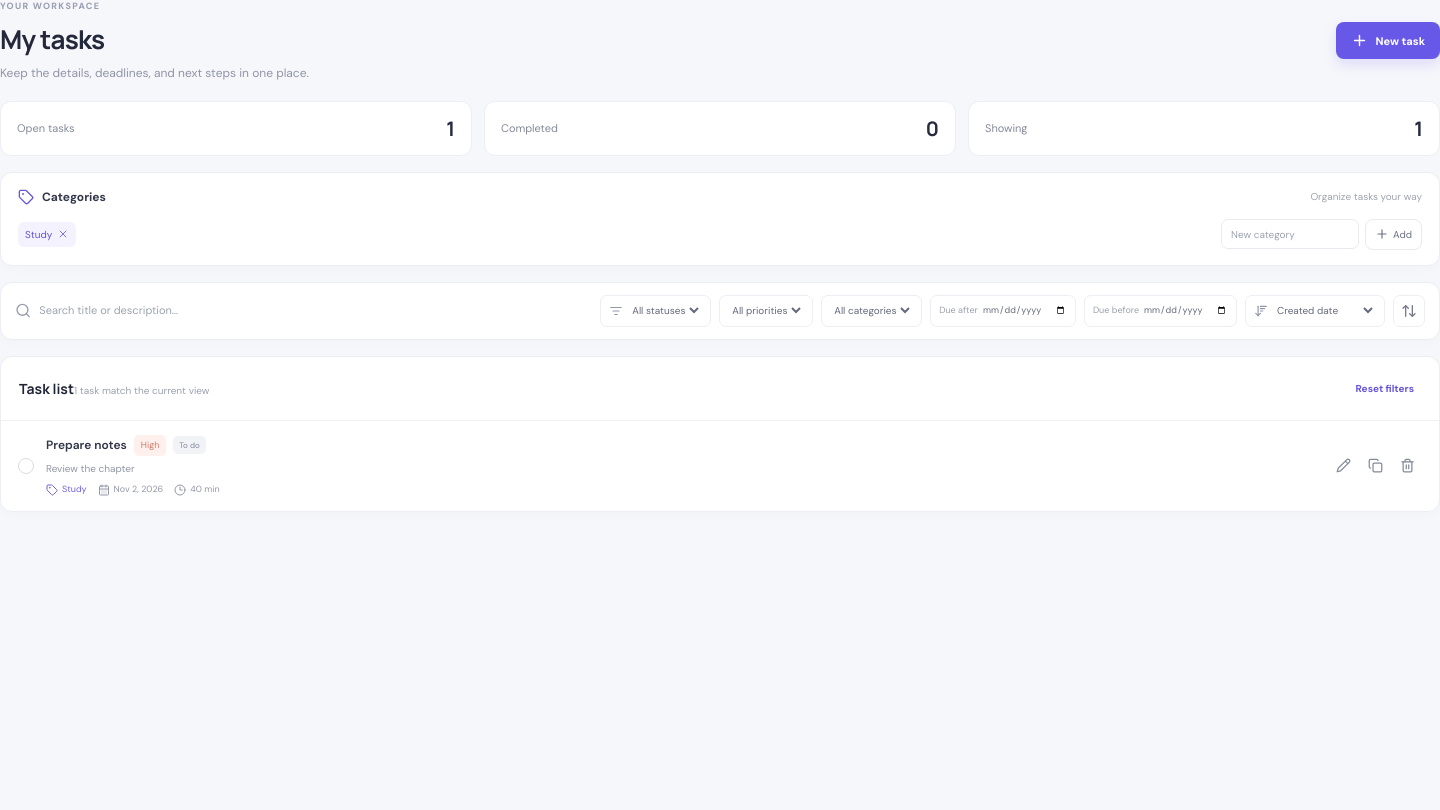
Test case: TaskManager › edits, completes, reopens, and deletes a task from the list
The image size is (1440, 810).
Expected: the heading "Prepare notes" is shown, [46,437,127,453]
Click the button named "Edit Prepare notes" at (1344,466), box [1329,451,1358,480]
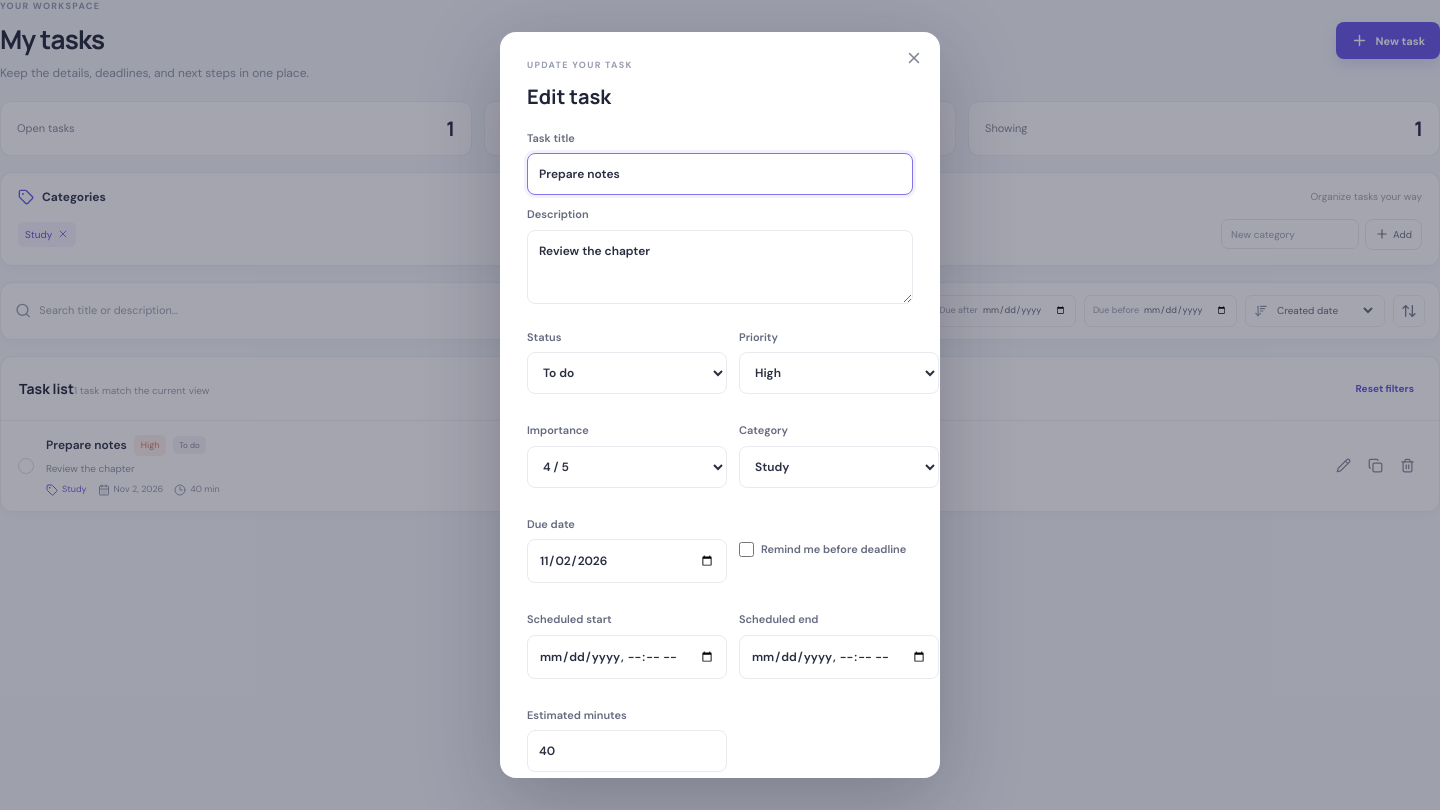
Replace the text in the field labelled "Task title" with "Updated notes" at (720,174), box [527,153,913,195]
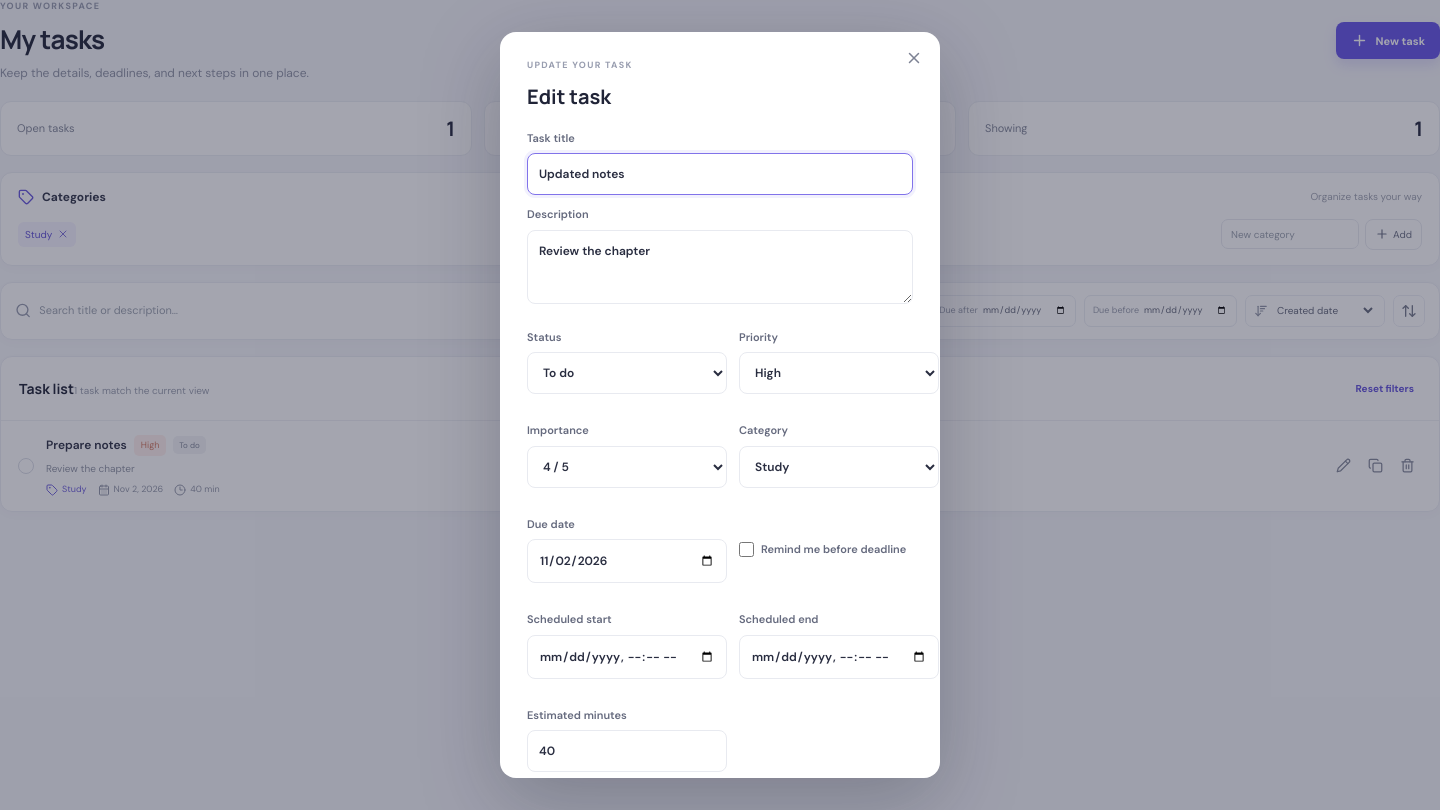
Select "Done" in the dropdown labelled "Status" at (627,373), box [527,352,727,394]
(page scrolled)
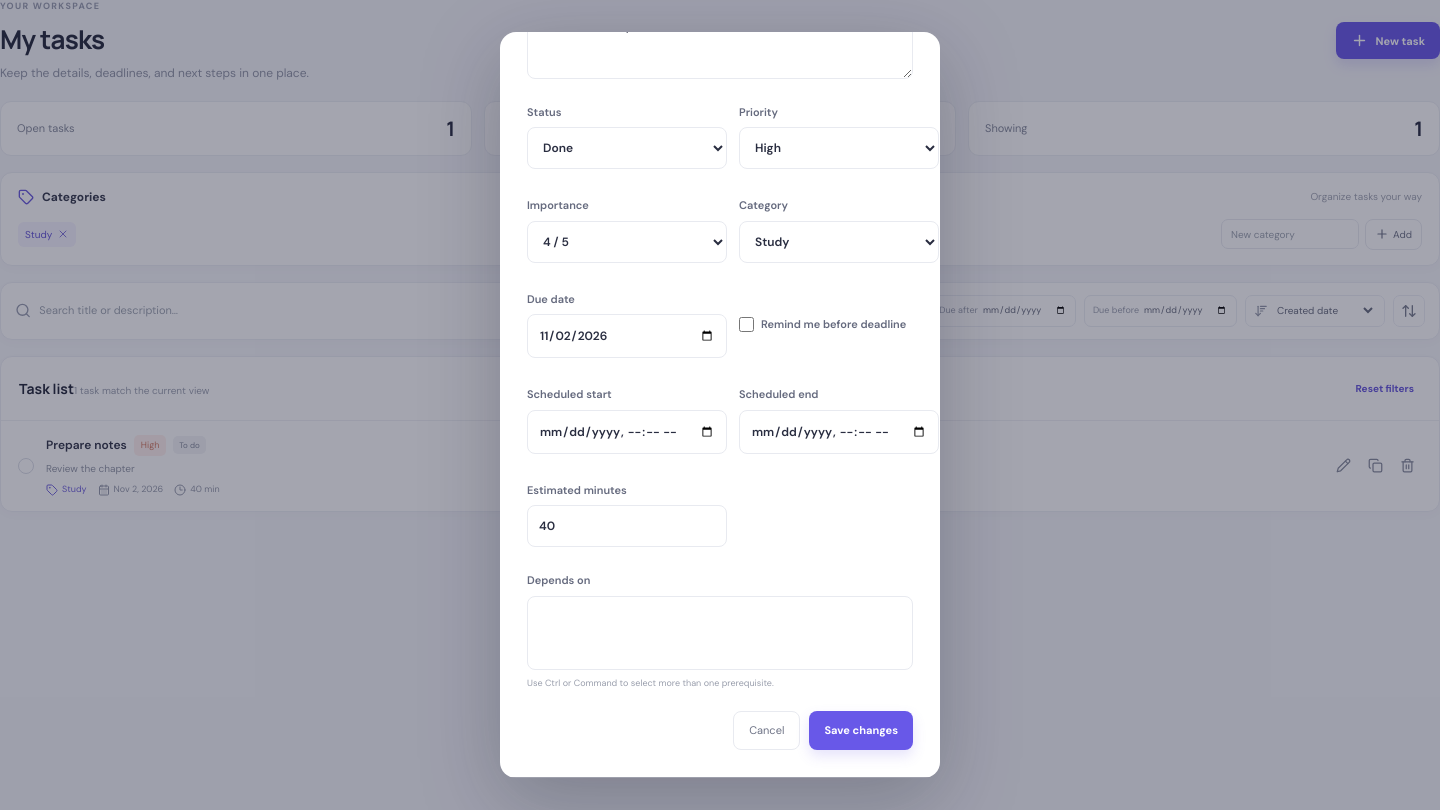
Click the button "Save changes" at (861,731), box [809,711,913,750]
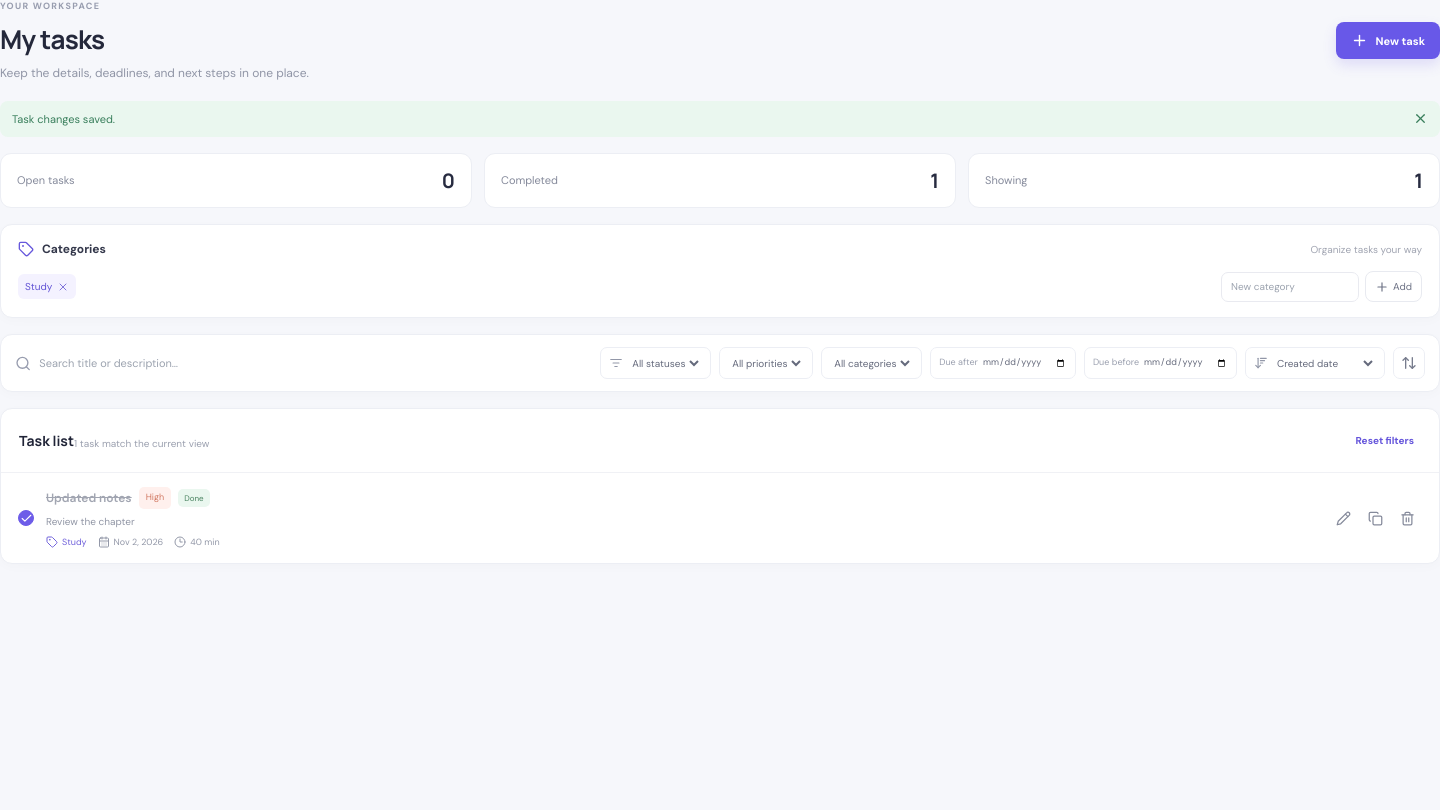
Expected: the heading "Updated notes" is shown, [46,490,132,506]
Click the button named "Reopen Updated notes" at (26,518), box [18,510,34,526]
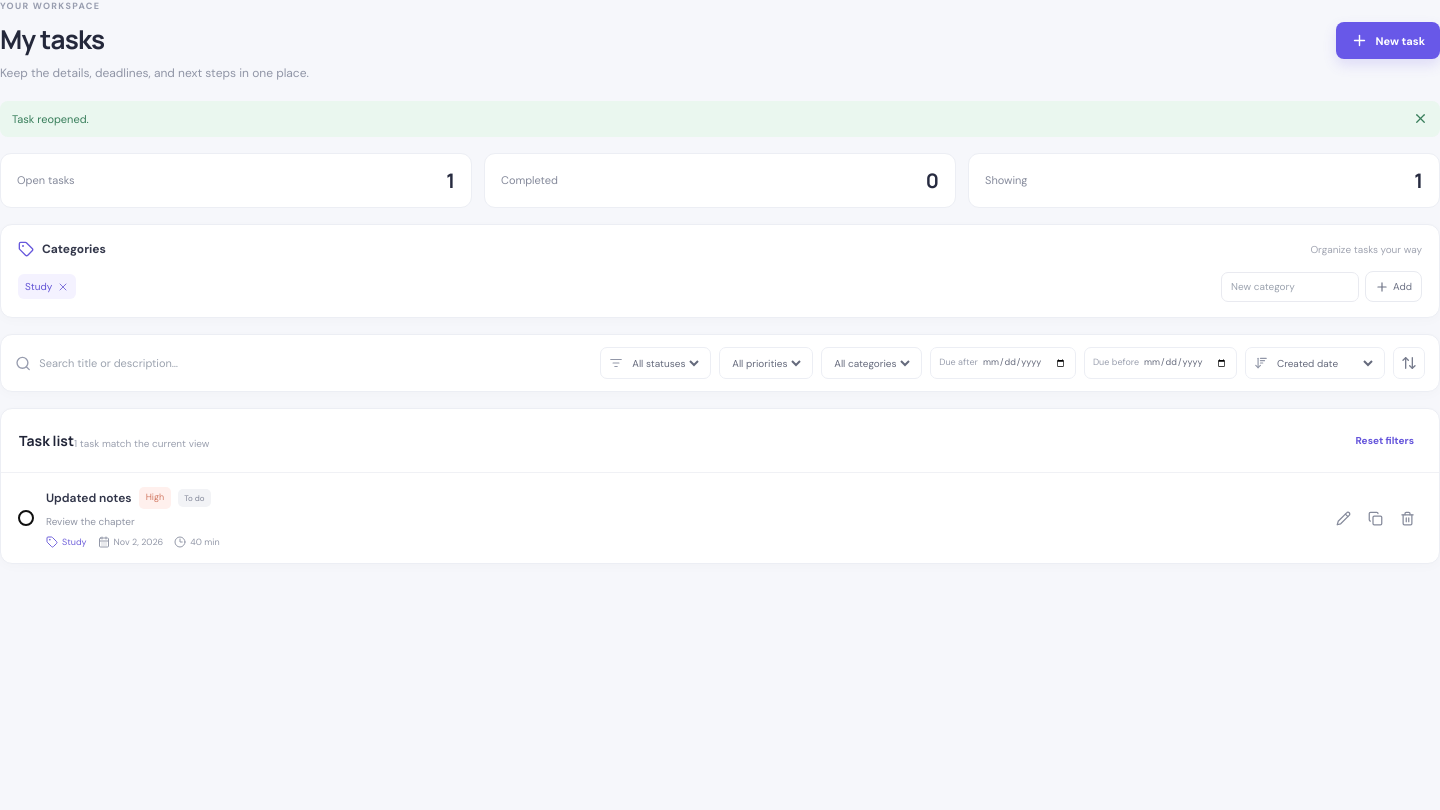
Expected: the button named "Complete Updated notes" is shown, [18,510,34,526]
Click the button named "Delete Updated notes" at (1408,518), box [1393,504,1422,532]
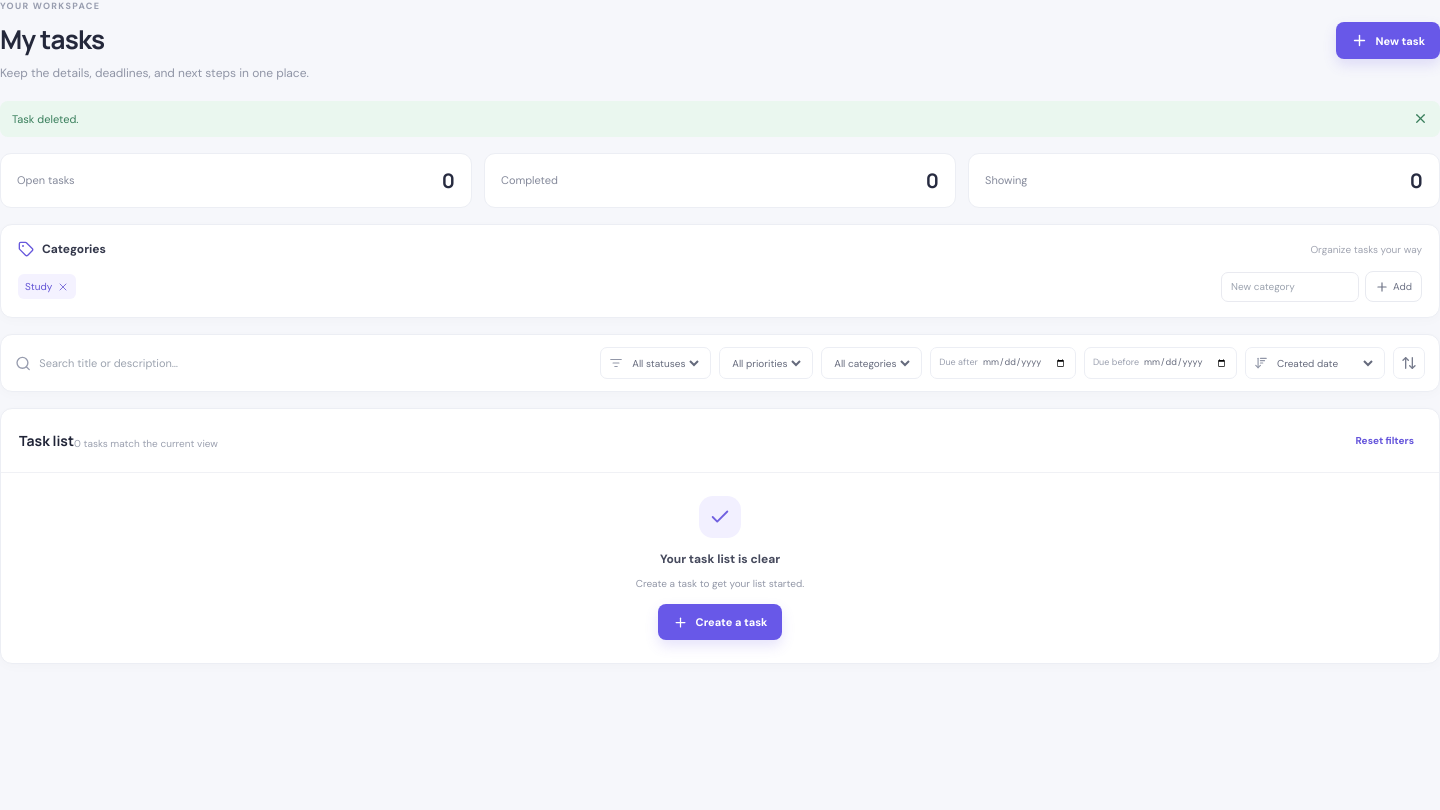
Expected: the text "Your task list is clear" is shown, [660,550,780,568]
